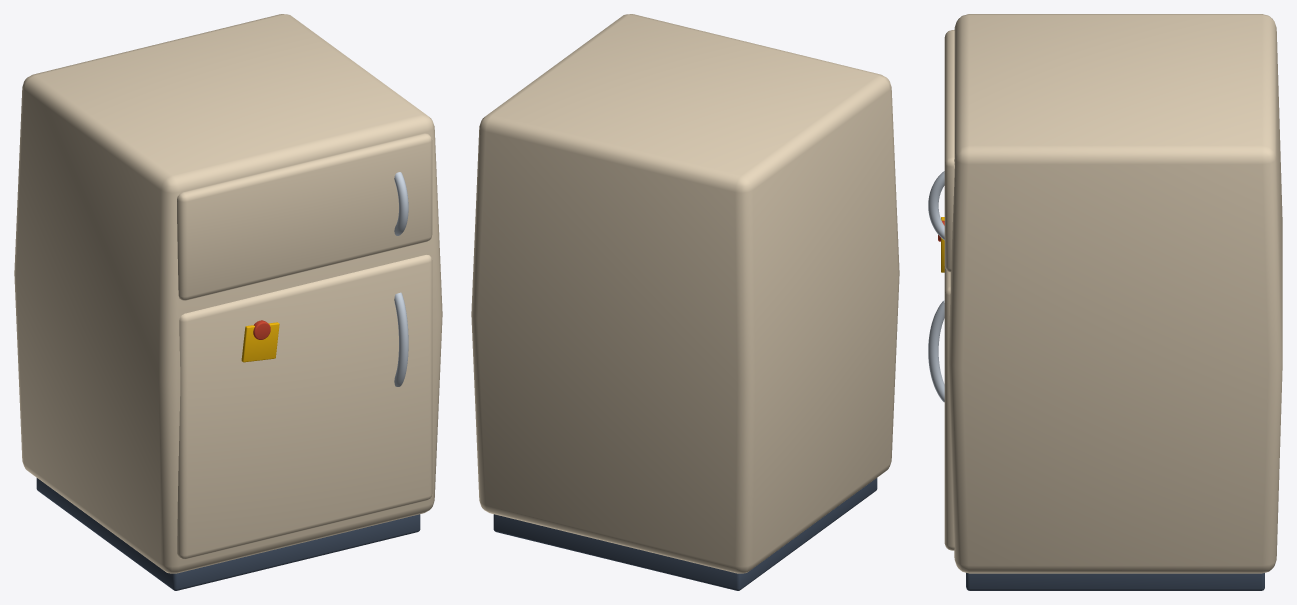
Rendered from fridge_A_decorated.gltf.
The picture shows the model from 3 angles, left to right: view 1: azimuth 30°, elevation 25°; view 2: azimuth 150°, elevation 25°; view 3: azimuth 270°, elevation 25°; orthographic projection. The views are drawn at different scales.
Parts seen in each view (by area): view 1: FridgePlinth; view 2: FridgePlinth; view 3: FridgePlinth.
Boxes of the visible parts, x1,y1,x2,y2 form: FridgePlinth: [14, 14, 442, 590]; FridgePlinth: [471, 14, 899, 590]; FridgePlinth: [928, 14, 1282, 590].
Size of the model in its own units: 0.936 by 1.32 by 0.9487.
